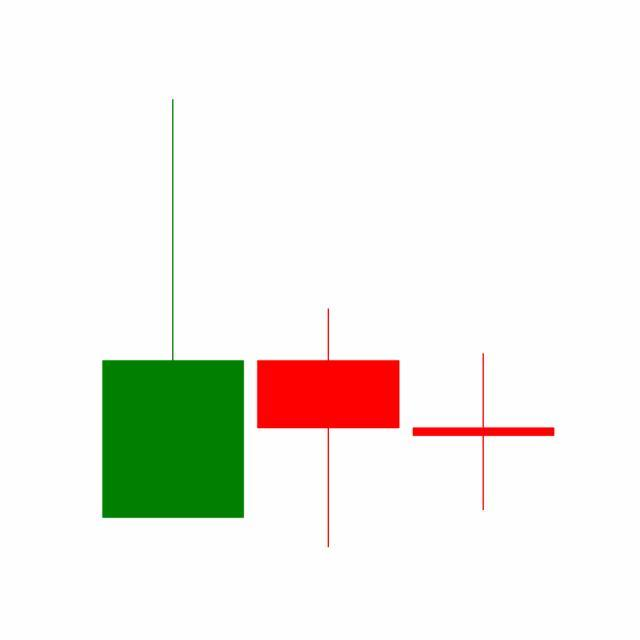Spinning Top: (406, 352, 562, 513)
